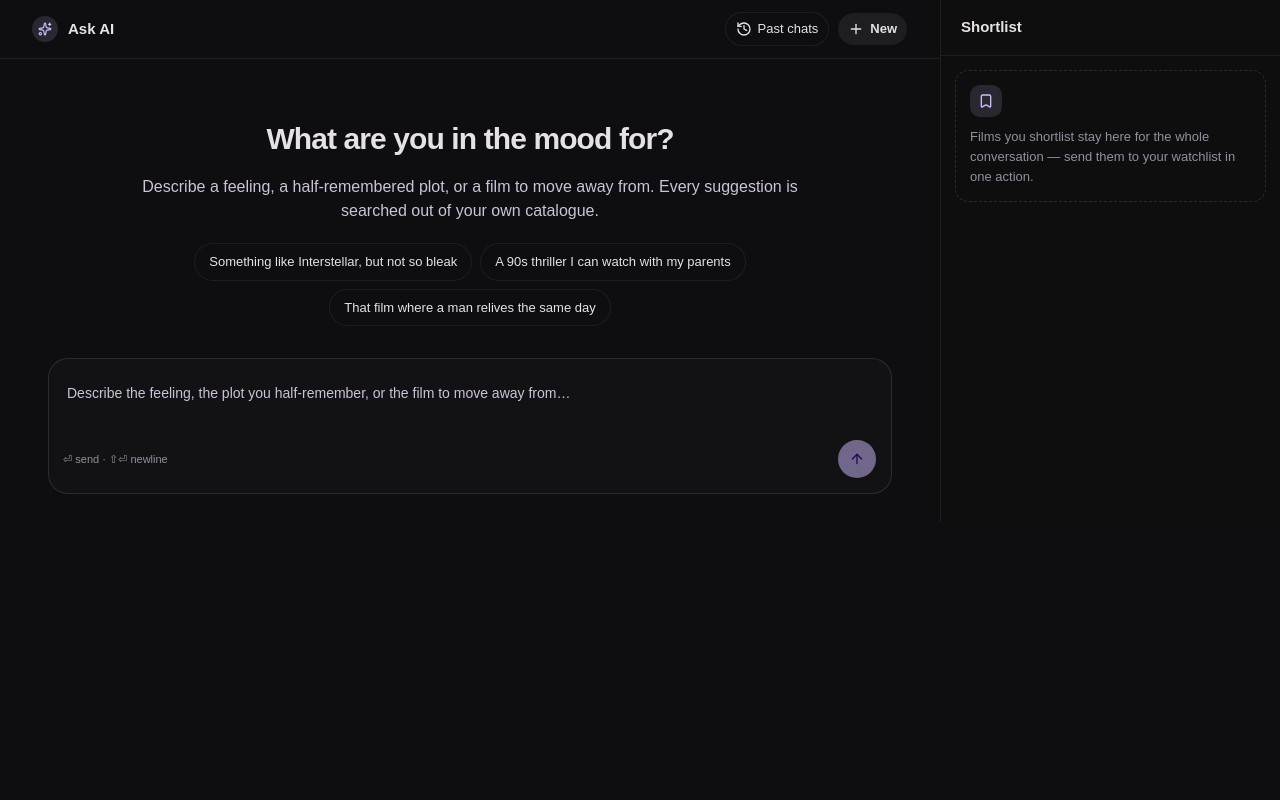
AskPageContent › disables past chats while one is loading
Step 1. Click the button "Past chats" → (777, 29), box top-left (725, 12), bottom-right (829, 46)
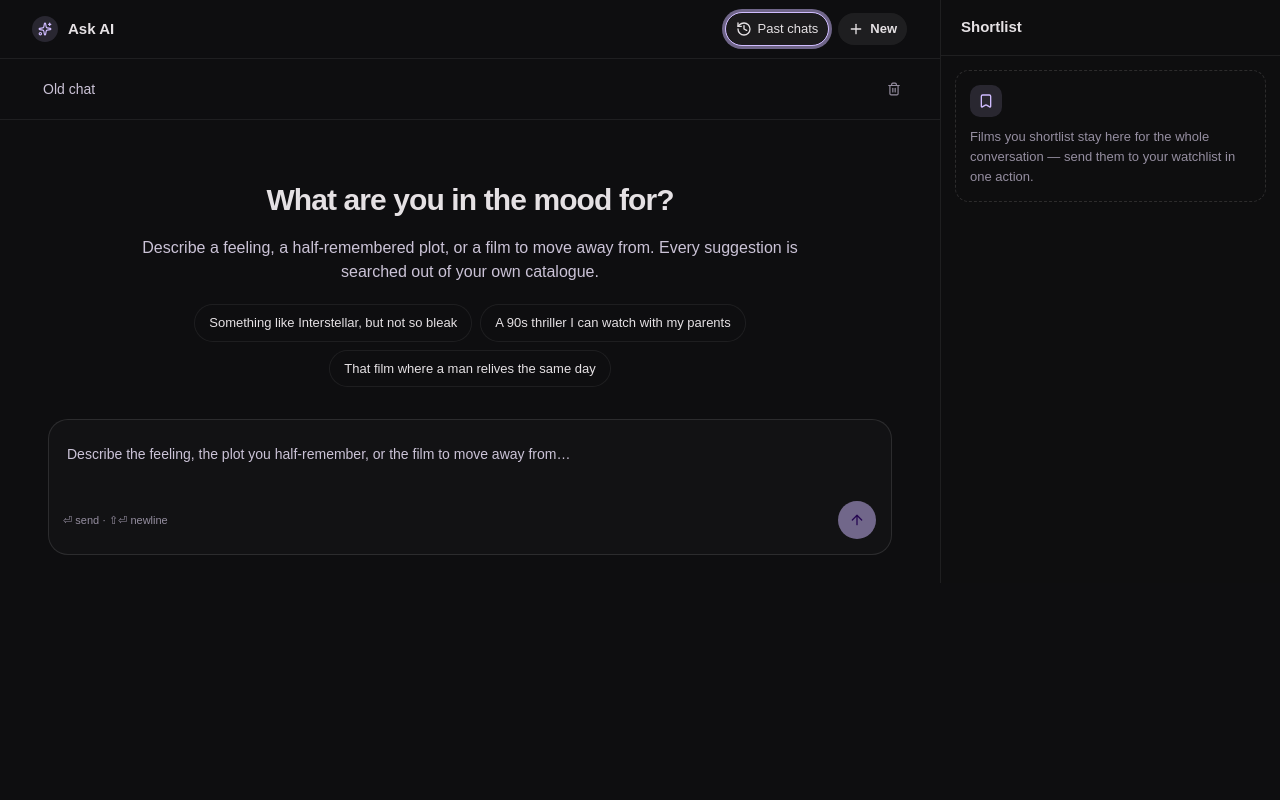
Step 2. Click the button "Old chat" → (69, 89), box top-left (32, 71), bottom-right (876, 107)
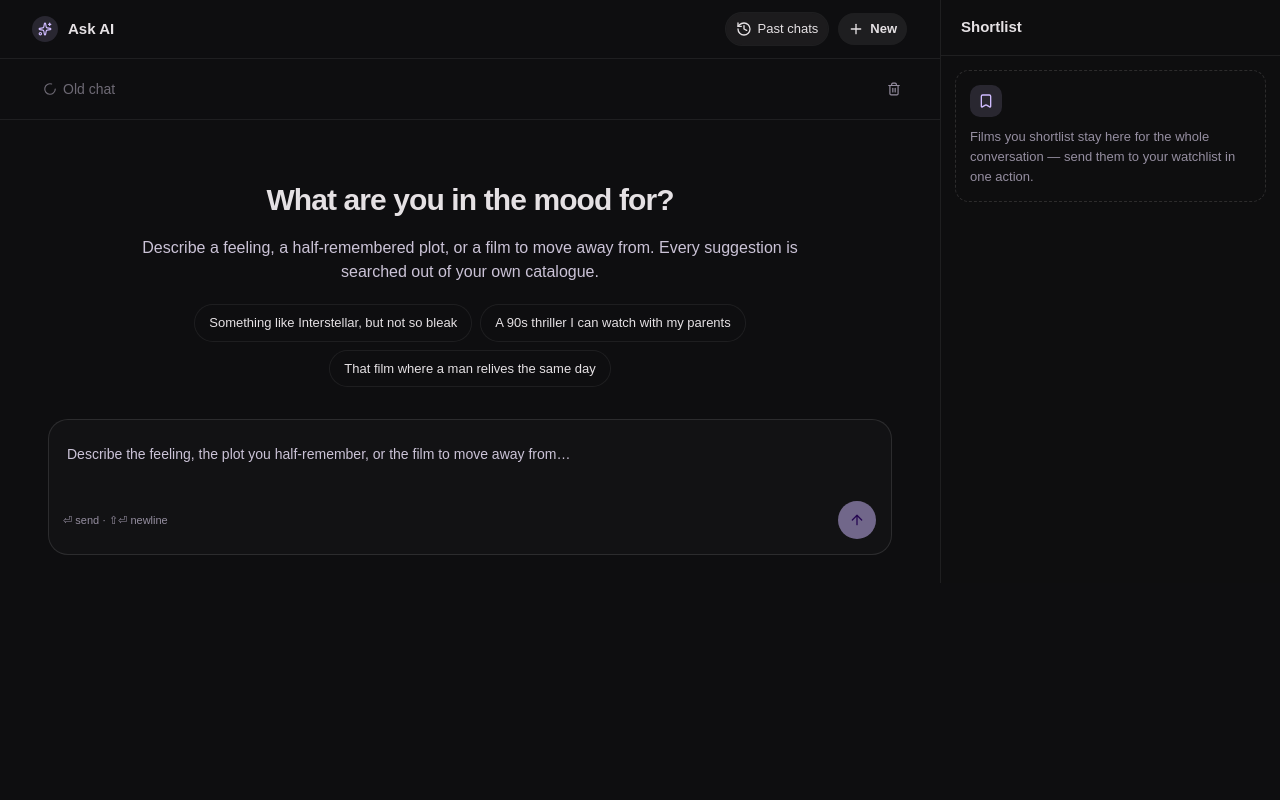
Now the button "Old chat" is disabled, box top-left (32, 71), bottom-right (876, 107)
